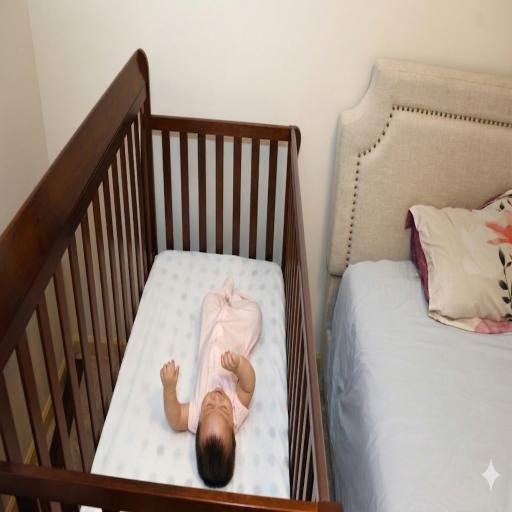baby: (161, 278, 262, 487)
crib: (84, 130, 291, 500)
